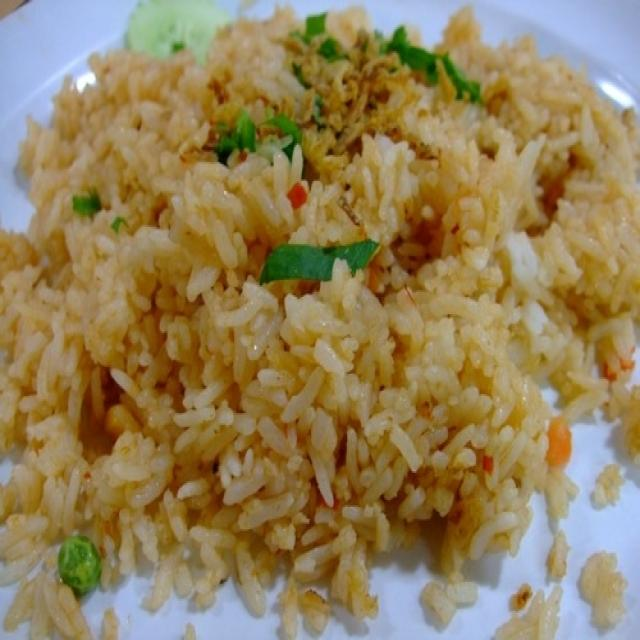米饭主食: (11, 21, 630, 621)
